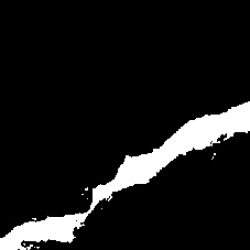crack: (3, 103, 249, 246)
